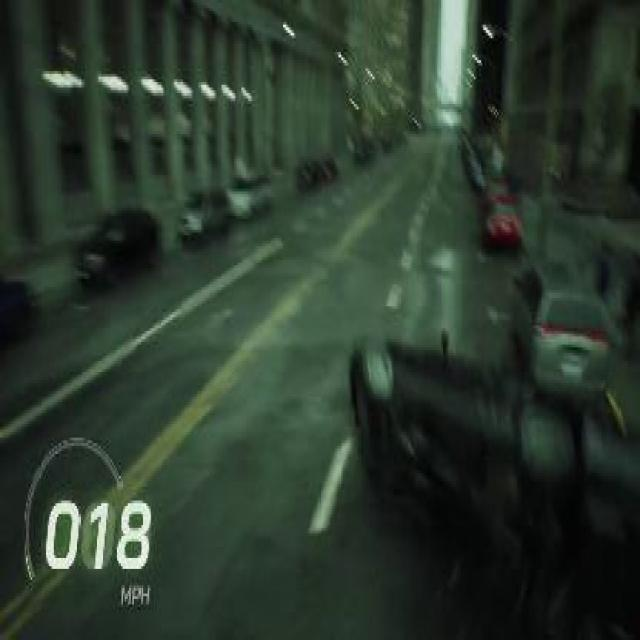accident: (346, 317, 639, 613)
